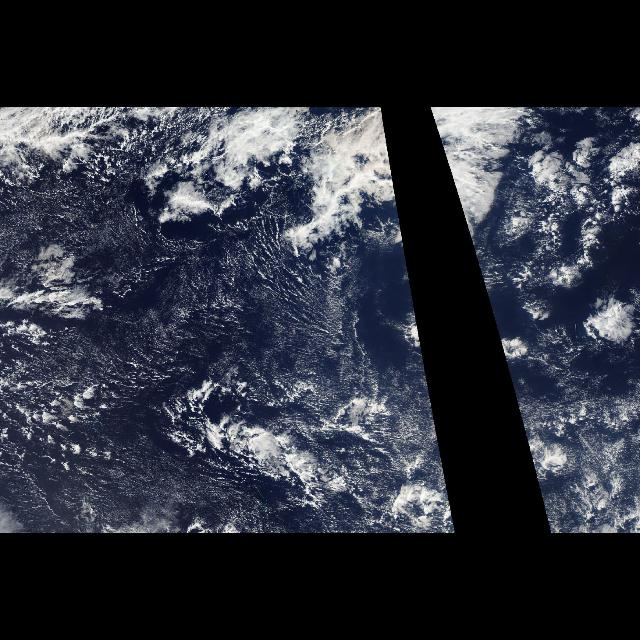Flower: (462, 110, 640, 386)
Sugar: (80, 208, 428, 392)
